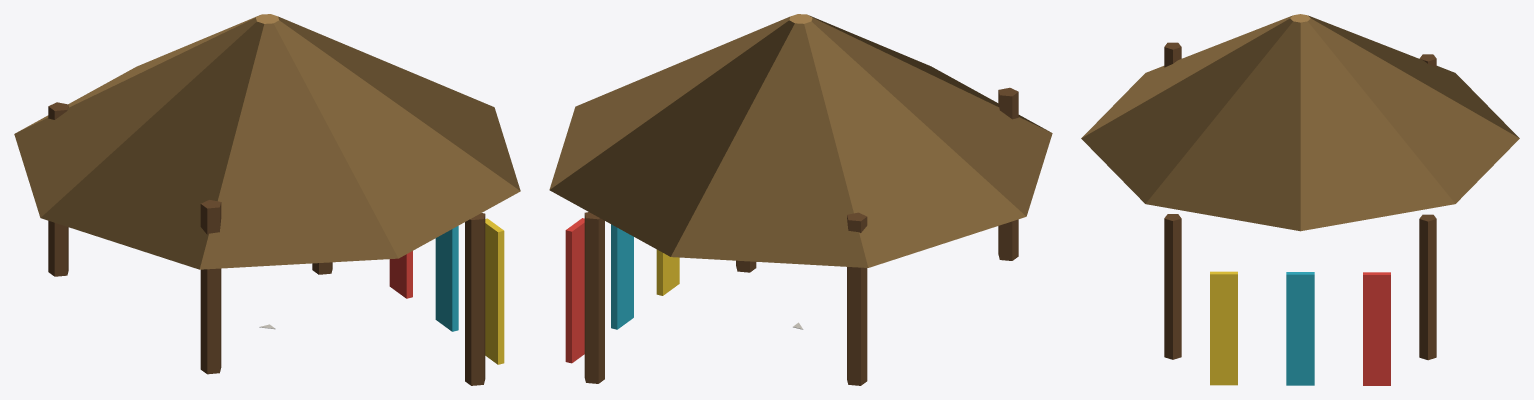
File: mambojambo.glb
The picture shows the model from 3 angles, left to right: view 1: azimuth 30°, elevation 25°; view 2: azimuth 150°, elevation 25°; view 3: azimuth 270°, elevation 25°; orthographic projection. The views are drawn at different scales.
Visible parts, largest first — view 1: mambojambo_lod0; view 2: mambojambo_lod0; view 3: mambojambo_lod0.
Part boxes in pixels (bbox=[...]): mambojambo_lod0: bbox=[14, 14, 520, 385]; mambojambo_lod0: bbox=[549, 14, 1052, 385]; mambojambo_lod0: bbox=[1081, 14, 1519, 385].
Size of what is drawn, in the model's own units: 8.6 by 6.34 by 8.6.
